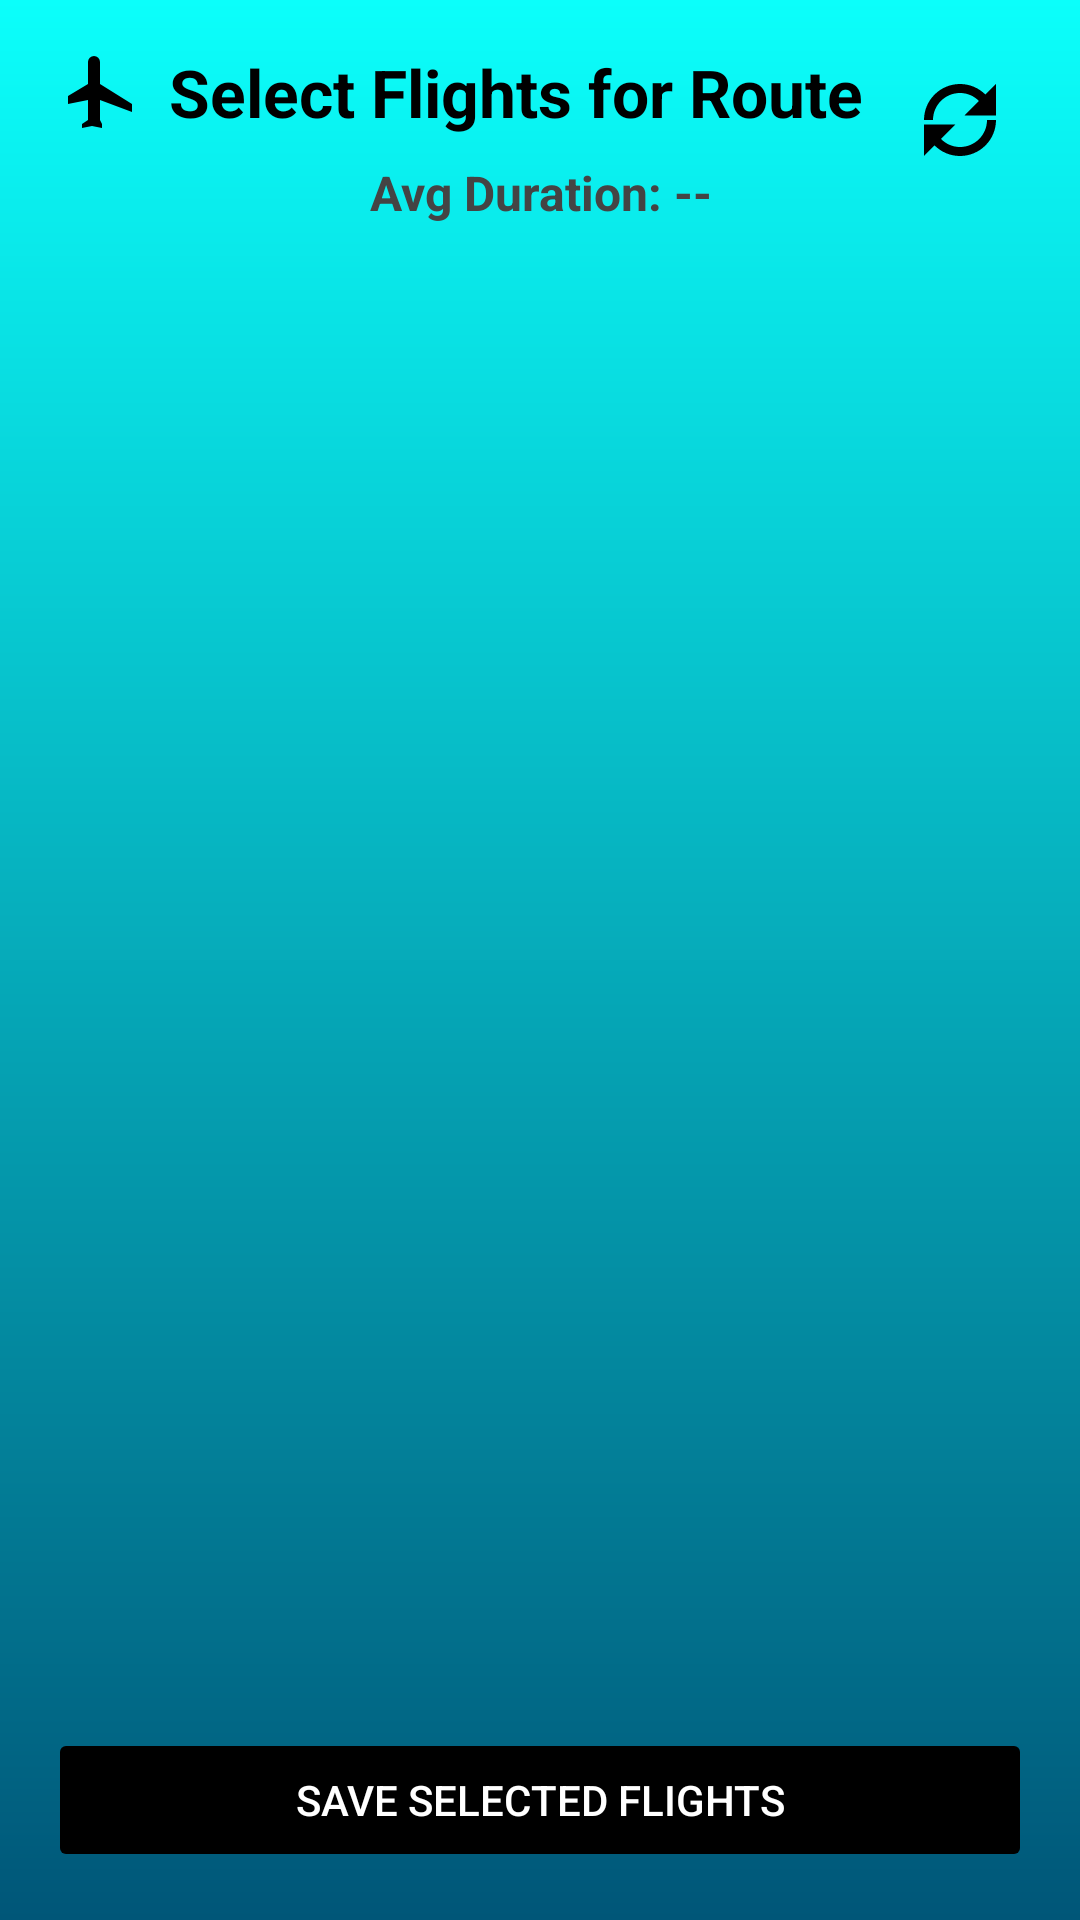

Point at icon controls on the screen. Image size 1080×1920, points as (x=x, y=y).
Flight Icon: (x=100, y=92)
Refresh: (x=960, y=120)
